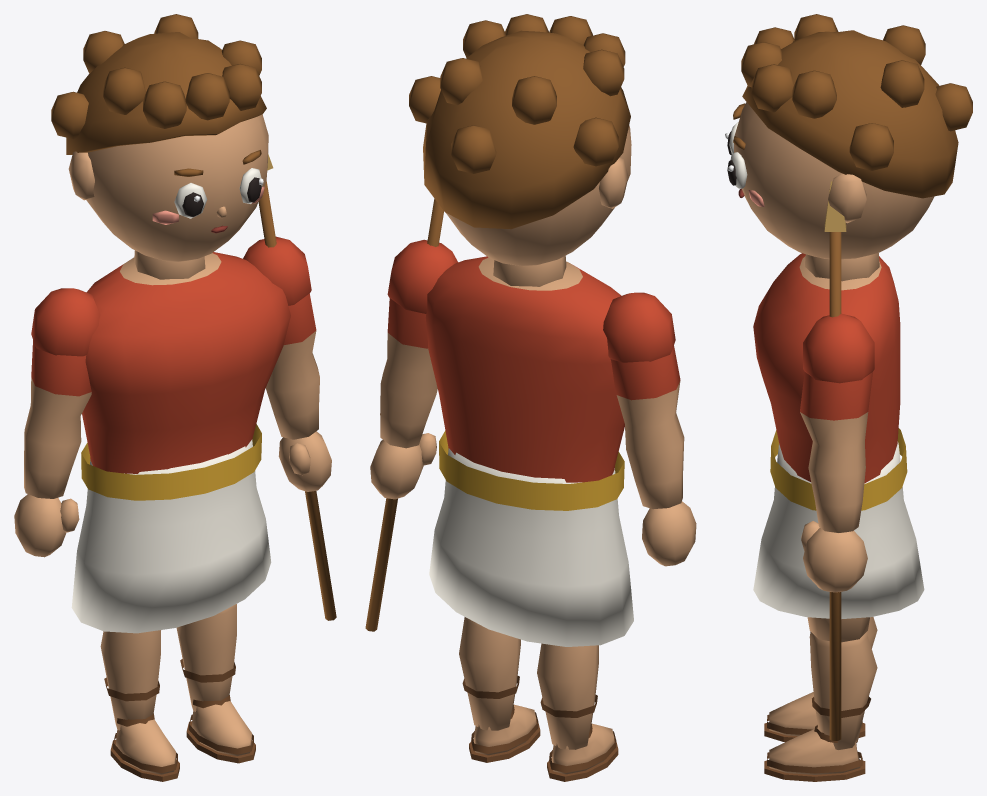
Rendered from speerwerfer.glb.
The picture shows the model from 3 angles, left to right: view 1: azimuth 30°, elevation 25°; view 2: azimuth 150°, elevation 25°; view 3: azimuth 270°, elevation 25°; orthographic projection. The views are drawn at different scales.
Parts seen in each view (by area): view 1: rumpf, huefte, haare, kopf, armL, armR, knieL, knieR, itemR, augeL, augeR; view 2: rumpf, haare, huefte, armL, armR, kopf, knieL, knieR, itemR; view 3: haare, rumpf, armR, kopf, huefte, knieR, itemR, knieL, beinR, augeR.
Part boxes in pixels (bbox=[...]): rumpf: bbox=[81, 252, 290, 500]; huefte: bbox=[71, 439, 271, 633]; haare: bbox=[51, 14, 266, 154]; kopf: bbox=[68, 114, 268, 279]; armL: bbox=[14, 288, 100, 557]; armR: bbox=[243, 236, 331, 491]; knieL: bbox=[100, 630, 179, 781]; knieR: bbox=[176, 604, 255, 763]; itemR: bbox=[258, 153, 336, 620]; augeL: bbox=[174, 183, 207, 218]; augeR: bbox=[239, 168, 263, 203]; rumpf: bbox=[425, 256, 624, 510]; haare: bbox=[409, 14, 630, 229]; huefte: bbox=[429, 448, 633, 646]; armL: bbox=[603, 292, 696, 566]; armR: bbox=[370, 239, 458, 499]; kopf: bbox=[446, 125, 631, 286]; knieL: bbox=[537, 643, 618, 781]; knieR: bbox=[459, 617, 540, 762]; itemR: bbox=[365, 198, 443, 631]; haare: bbox=[741, 14, 972, 198]; rumpf: bbox=[753, 253, 907, 510]; armR: bbox=[800, 313, 874, 592]; kopf: bbox=[734, 102, 934, 281]; huefte: bbox=[753, 441, 924, 618]; knieR: bbox=[764, 631, 877, 781]; itemR: bbox=[824, 181, 846, 740]; knieL: bbox=[764, 617, 877, 742]; beinR: bbox=[807, 617, 869, 642]; augeR: bbox=[727, 152, 747, 188].
Bounding box in the file's own units: 1.08 × 2.3 × 0.7242.
